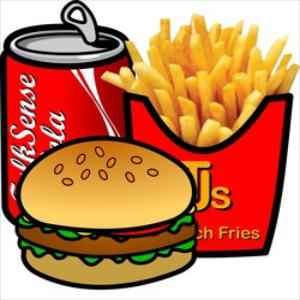cheeseburger: (12, 139, 210, 295)
fries: (130, 15, 295, 139)
